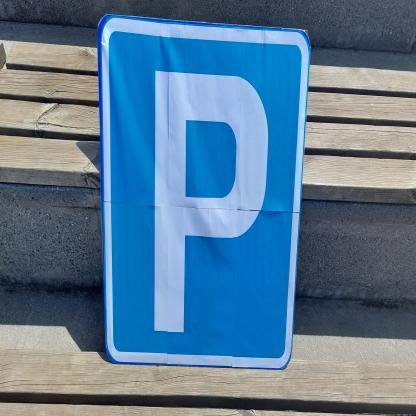parking: (97, 14, 311, 371)
